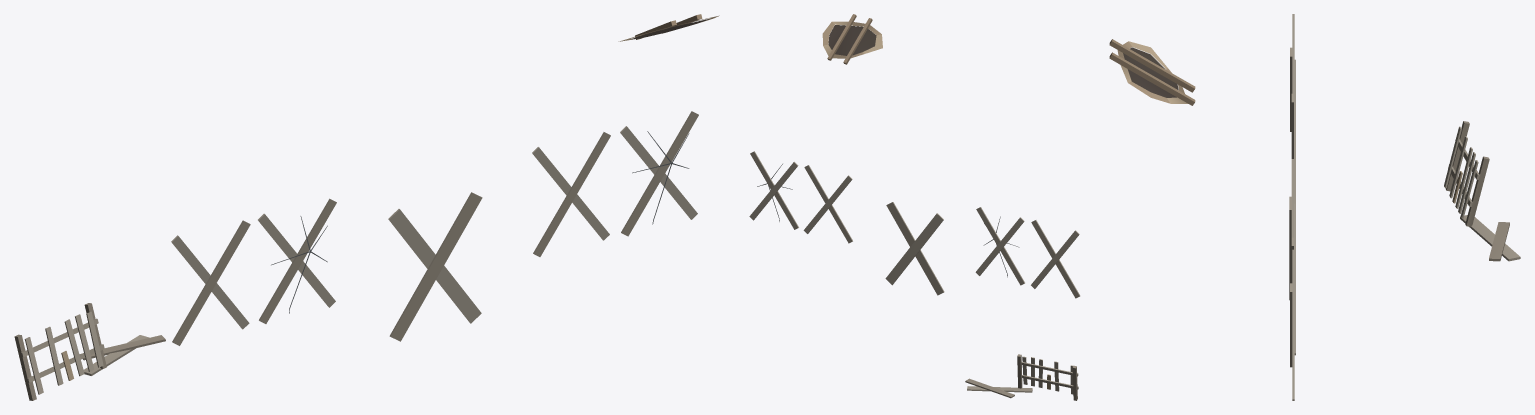
The model's file is house_broken_manor_low.glb.
3 renders of one model, left to right at view 1: azimuth 30°, elevation 25°; view 2: azimuth 150°, elevation 25°; view 3: azimuth 270°, elevation 25°, orthographic. The views are drawn at different scales.
Bounding box in the file's own units: 9.66 × 5.77 × 5.31.
